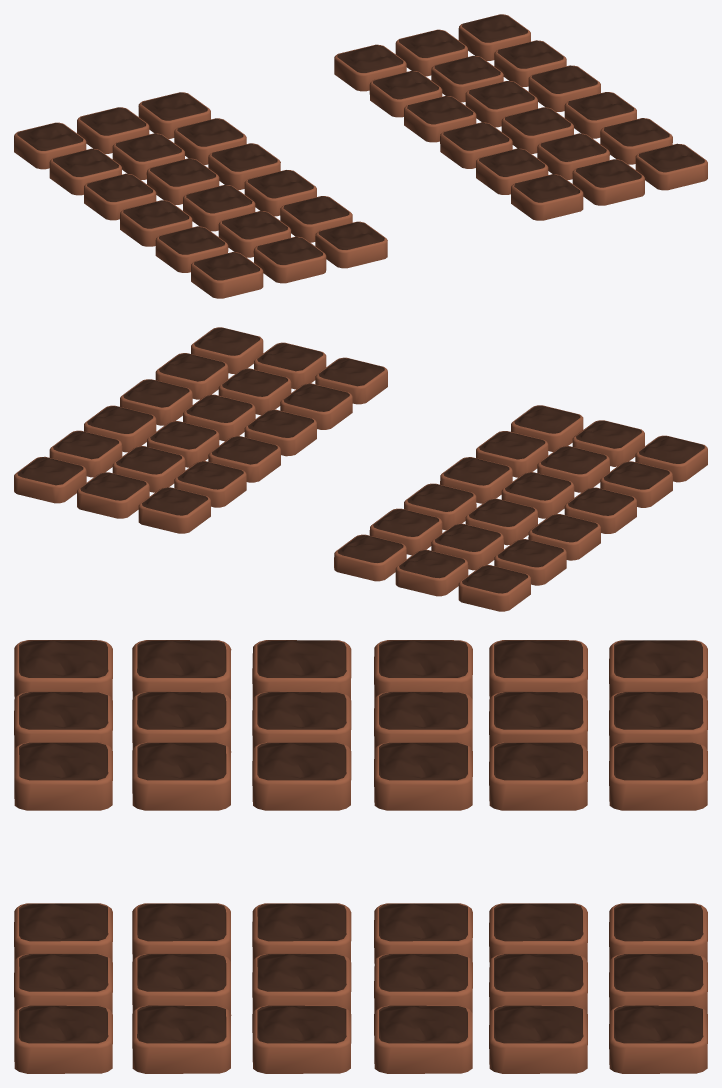
File: ada2 ekilmiü.fbx
3 renders of one model, top to bottom at view 1: azimuth 30°, elevation 25°; view 2: azimuth 150°, elevation 25°; view 3: azimuth 270°, elevation 25°, orthographic. The views are drawn at different scales.
Visible parts, largest first — view 1: kahve karo.206, kahve karo.223, kahve karo.205, kahve karo.225, kahve karo.203, kahve karo.224, kahve karo.184, kahve karo.214, kahve karo.178, kahve karo.208, kahve karo.217, kahve karo.195 (+24 smaller); view 2: kahve karo.178, kahve karo.208, kahve karo.179, kahve karo.210, kahve karo.180, kahve karo.209, kahve karo.195, kahve karo.217, kahve karo.211, kahve karo.198, kahve karo.220, kahve karo.181 (+24 smaller); view 3: kahve karo.197, kahve karo.219, kahve karo.202, kahve karo.210, kahve karo.213, kahve karo.222, kahve karo.194, kahve karo.216, kahve karo.225, kahve karo.180, kahve karo.183, kahve karo.203 (+24 smaller).
Part boxes in pixels (left/top/right/bottom): kahve karo.206: left=191, top=252, right=263, bottom=298; kahve karo.223: left=511, top=174, right=583, bottom=220; kahve karo.205: left=253, top=236, right=326, bottom=283; kahve karo.225: left=635, top=143, right=707, bottom=190; kahve karo.203: left=315, top=221, right=387, bottom=268; kahve karo.224: left=572, top=159, right=644, bottom=205; kahve karo.184: left=84, top=173, right=156, bottom=220; kahve karo.214: left=404, top=96, right=476, bottom=142; kahve karo.178: left=14, top=122, right=86, bottom=169; kahve karo.208: left=334, top=44, right=406, bottom=91; kahve karo.217: left=440, top=122, right=512, bottom=168; kahve karo.195: left=120, top=200, right=192, bottom=246; kahve karo.178: left=458, top=565, right=530, bottom=611; kahve karo.208: left=138, top=487, right=210, bottom=533; kahve karo.179: left=395, top=549, right=468, bottom=596; kahve karo.210: left=14, top=456, right=86, bottom=503; kahve karo.180: left=334, top=534, right=406, bottom=581; kahve karo.209: left=77, top=472, right=149, bottom=518; kahve karo.195: left=564, top=487, right=636, bottom=533; kahve karo.217: left=244, top=409, right=316, bottom=456; kahve karo.211: left=174, top=461, right=246, bottom=507; kahve karo.198: left=600, top=461, right=672, bottom=507; kahve karo.220: left=280, top=383, right=352, bottom=429; kahve karo.181: left=494, top=539, right=566, bottom=585; kahve karo.197: left=252, top=742, right=351, bottom=810; kahve karo.219: left=252, top=1005, right=351, bottom=1073; kahve karo.202: left=132, top=742, right=231, bottom=810; kahve karo.210: left=609, top=1005, right=707, bottom=1073; kahve karo.213: left=489, top=1005, right=587, bottom=1073; kahve karo.222: left=132, top=1005, right=231, bottom=1073; kahve karo.194: left=374, top=742, right=472, bottom=810; kahve karo.216: left=374, top=1005, right=472, bottom=1073; kahve karo.225: left=14, top=1005, right=112, bottom=1073; kahve karo.180: left=609, top=742, right=707, bottom=810; kahve karo.183: left=489, top=742, right=587, bottom=810; kahve karo.203: left=14, top=742, right=112, bottom=810.
Bounding box in the file's own units: 737 × 31.19 × 532.
